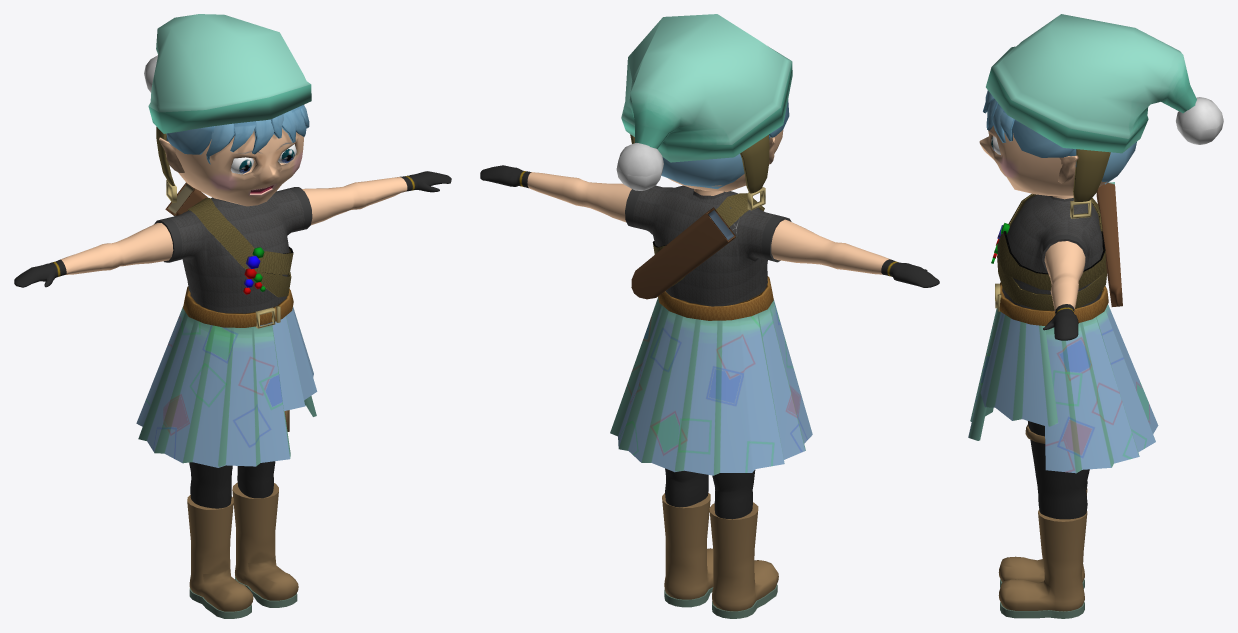
The model's file is chara.fbx.
3 renders of one model, left to right at view 1: azimuth 30°, elevation 25°; view 2: azimuth 150°, elevation 25°; view 3: azimuth 270°, elevation 25°, orthographic. The views are drawn at different scales.
Parts seen in each view (by area): view 1: sukato_dai, boushi, doutai, kao, hidaributu2, hidaributu3, hidariude2, sukato_sho, hidariude3, doutaiberuto, ashi2, koshi_beruto (+7 smaller); view 2: sukato_dai, boushi, doutai, hidaributu2, hidaributu3, saya, hidariude2, hidariude3, ushirogami, koshi_beruto, boushi_bonbon, ashi2 (+5 smaller); view 3: boushi, sukato_dai, sukato_sho, hidaributu3, doutai, kao, ashi3, hidariude3, saya, doutaiberuto, doutaiberuto1, boushi_bonbon (+7 smaller).
Boxes of the visible parts, bbox=[...] form: sukato_dai: bbox=[136, 306, 316, 467]; boushi: bbox=[148, 14, 311, 133]; doutai: bbox=[154, 187, 312, 313]; kao: bbox=[175, 127, 304, 206]; hidaributu2: bbox=[187, 495, 253, 618]; hidaributu3: bbox=[232, 482, 298, 607]; hidariude2: bbox=[60, 223, 173, 274]; sukato_sho: bbox=[272, 307, 317, 410]; hidariude3: bbox=[302, 177, 407, 225]; doutaiberuto: bbox=[187, 198, 291, 297]; ashi2: bbox=[189, 462, 232, 508]; koshi_beruto: bbox=[183, 286, 293, 327]; sukato_dai: bbox=[610, 297, 812, 475]; boushi: bbox=[621, 14, 792, 162]; doutai: bbox=[625, 185, 791, 306]; hidaributu2: bbox=[709, 502, 778, 618]; hidaributu3: bbox=[662, 493, 713, 607]; saya: bbox=[631, 207, 736, 299]; hidariude2: bbox=[771, 219, 890, 274]; hidariude3: bbox=[527, 172, 631, 222]; ushirogami: bbox=[661, 154, 744, 189]; koshi_beruto: bbox=[658, 276, 773, 320]; boushi_bonbon: bbox=[616, 143, 663, 190]; ashi2: bbox=[712, 470, 755, 519]; boushi: bbox=[986, 14, 1196, 153]; sukato_dai: bbox=[968, 290, 1158, 473]; sukato_sho: bbox=[980, 312, 1058, 426]; hidaributu3: bbox=[998, 509, 1087, 618]; doutai: bbox=[1002, 194, 1102, 310]; kao: bbox=[979, 125, 1107, 196]; ashi3: bbox=[1028, 421, 1089, 519]; hidariude3: bbox=[1044, 241, 1085, 311]; saya: bbox=[1096, 182, 1122, 306]; doutaiberuto: bbox=[997, 194, 1106, 310]; doutaiberuto1: bbox=[997, 231, 1105, 290]; boushi_bonbon: bbox=[1176, 97, 1223, 144].
Size of the model in its own units: 22.14 by 27.02 by 10.96.
2 materials, 2 textured.
